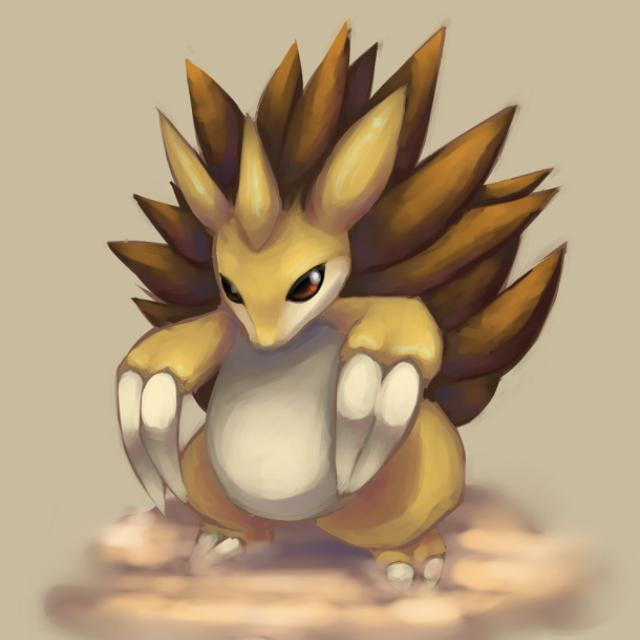Sandslash: (125, 92, 471, 550)
